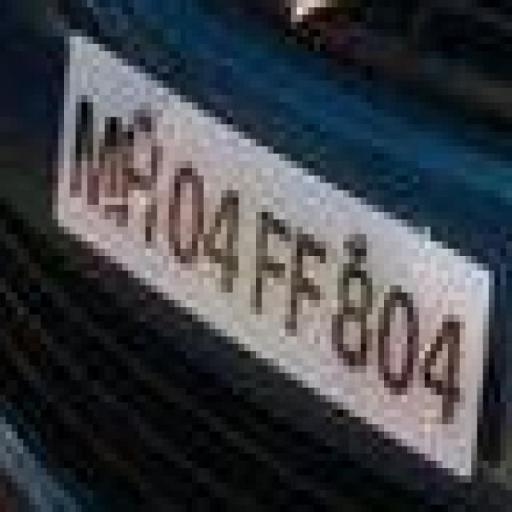number plate: (17, 73, 472, 395)
